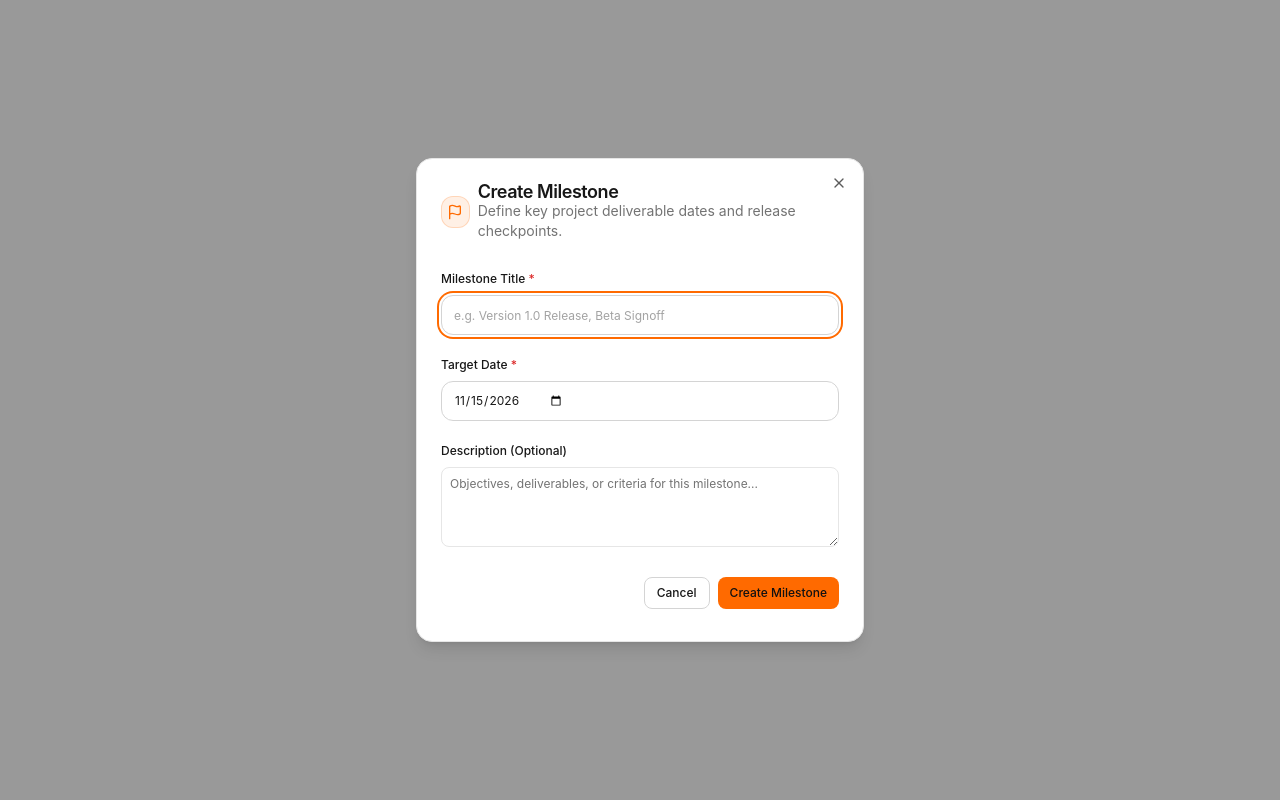
Test: MilestoneModal Component › shows error alert on submit rejection
In the field labelled "Milestone Title *": coordinates (640, 315) [441,295,839,335], type "Duplicate Milestone"
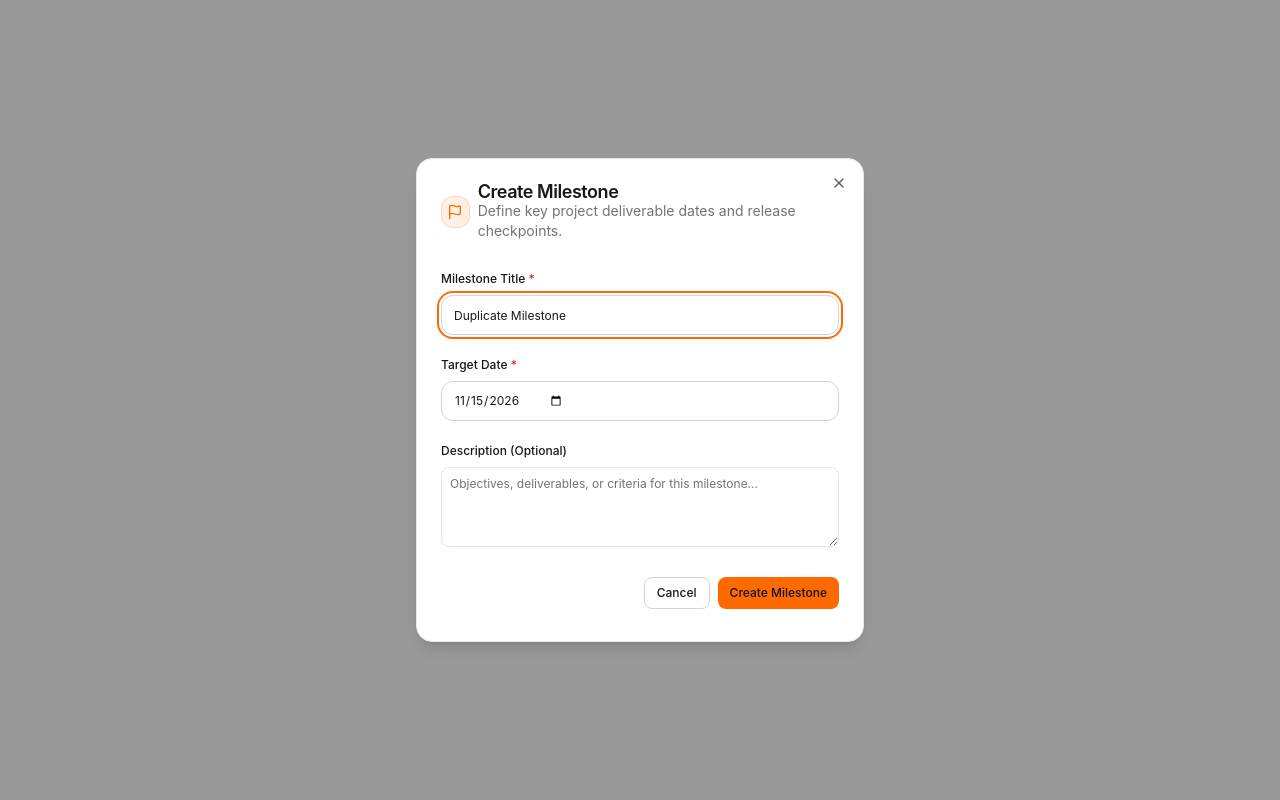
Click the button "Create Milestone": coordinates (778, 593) [718,577,839,609]
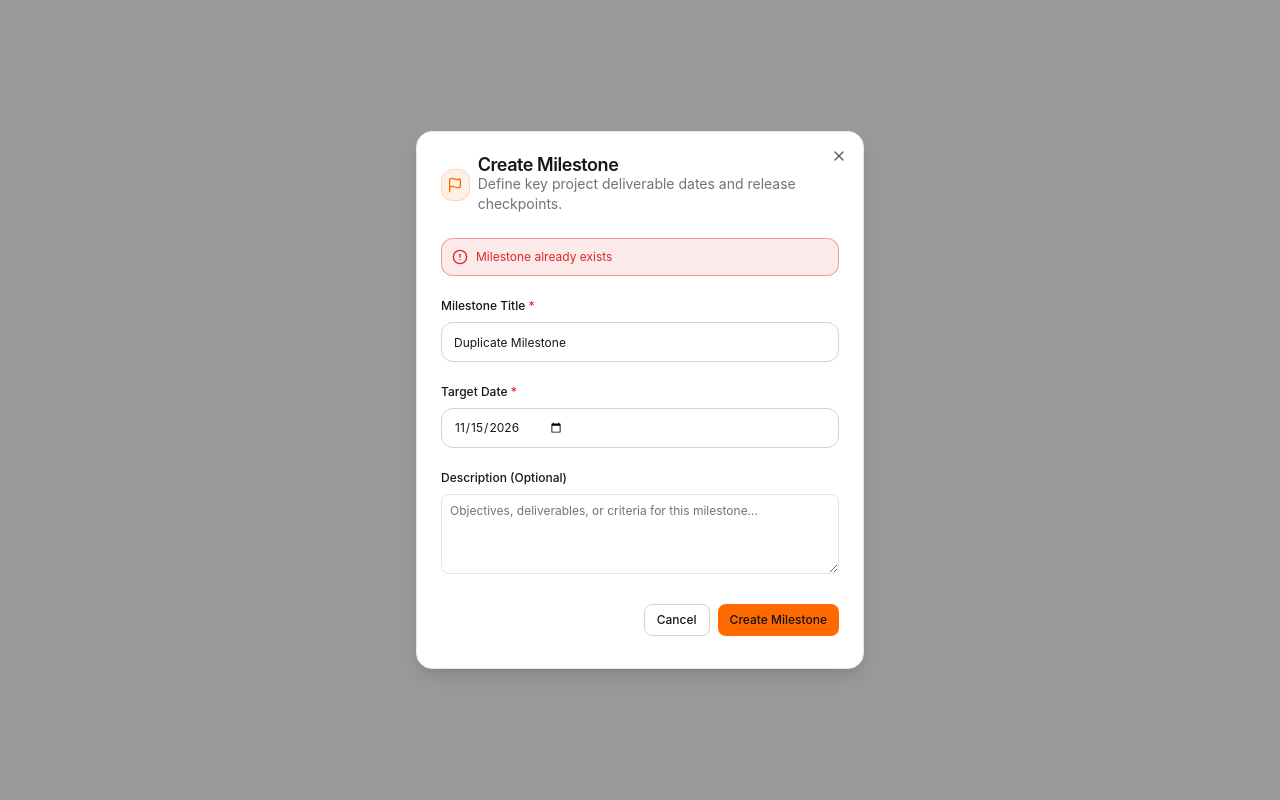
Check: the text "Milestone already exists" is shown, box [476,249,612,265]
